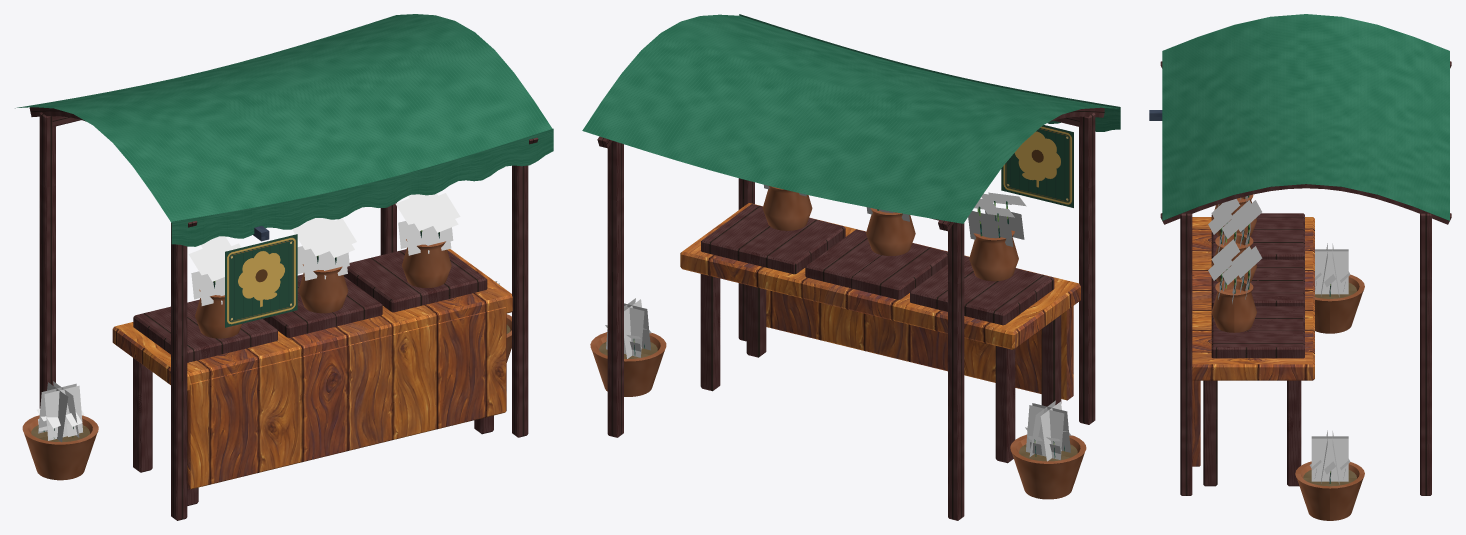
Rendered from Flower_Stall.fbx.
3 views of the same model, side by side, from view 1: azimuth 30°, elevation 25°; view 2: azimuth 150°, elevation 25°; view 3: azimuth 270°, elevation 25° (orthographic). The views are drawn at different scales.
Visible parts, largest first — view 1: Draped stitched awning.005, Counter front.005, Scalloped canvas hem.005, Counter top.005, Painted shop sign.005, Canopy post.020, Canopy post.021, Canopy post.022, Display tray.017, Display tray.015, Display tray.016, Terracotta planter (+11 smaller); view 2: Draped stitched awning.005, Counter front.005, Counter top.005, Display tray.017, Display tray.016, Canopy post.020, Canopy post.021, Canopy post.023, Display tray.015, Painted shop sign.005, Terracotta planter, Counter leg.023 (+10 smaller); view 3: Draped stitched awning.005, Counter top.005, Display tray.017, Canopy post.022, Canopy post.023, Display tray.016, Display tray.015, Terracotta planter.001, Flower vendor water vase.002, Terracotta planter, Counter leg.022, Growing leaf sprig.004 (+4 smaller).
Boxes of the visible parts, x1,y1,x2,y2 form: Draped stitched awning.005: (15,14,552,222); Counter front.005: (187,307,506,489); Scalloped canvas hem.005: (171,128,553,246); Counter top.005: (112,249,512,391); Painted shop sign.005: (225,234,297,327); Canopy post.020: (171,223,187,520); Canopy post.021: (39,112,55,408); Canopy post.022: (512,165,528,437); Display tray.017: (344,249,487,312); Display tray.015: (133,299,277,362); Display tray.016: (263,274,382,337); Terracotta planter: (22,415,98,480); Draped stitched awning.005: (582,14,1118,223); Counter front.005: (766,290,1073,400); Counter top.005: (680,203,1080,349); Display tray.017: (701,204,845,274); Display tray.016: (805,229,947,299); Canopy post.020: (1079,113,1095,424); Canopy post.021: (948,222,964,520); Canopy post.023: (607,141,623,437); Display tray.015: (910,256,1054,325); Painted shop sign.005: (1001,125,1073,207); Terracotta planter: (1010,434,1086,499); Counter leg.023: (700,274,720,391); Draped stitched awning.005: (1162,14,1449,220); Counter top.005: (1192,217,1314,380); Display tray.017: (1211,306,1304,358); Canopy post.022: (1180,213,1192,495); Canopy post.023: (1420,213,1431,495); Display tray.016: (1211,259,1304,307); Display tray.015: (1211,213,1304,260); Terracotta planter.001: (1295,461,1364,520); Flower vendor water vase.002: (1211,279,1256,332); Terracotta planter: (1315,274,1364,333); Counter leg.022: (1203,380,1217,486); Growing leaf sprig.004: (1311,438,1348,481).
Size of the model in its own units: 428 by 294 by 253.
